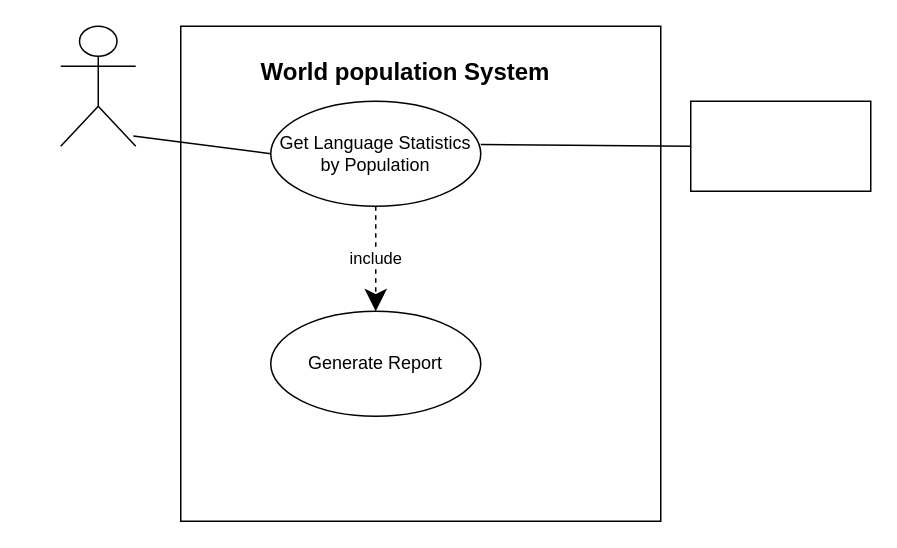
The diagram is 897 pixels wide and 548 high, and some of its shapes have lost their labels. Each missing label, with the box of its shape:
Database: (689, 100, 871, 191)
Organisation User: (59, 25, 136, 146)
